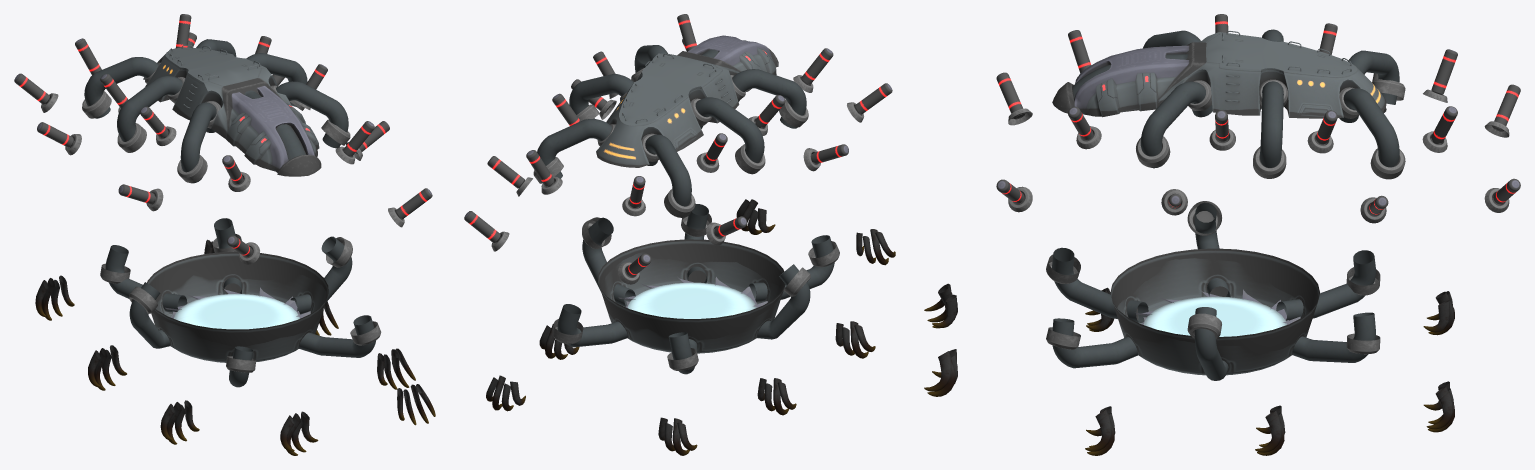
The model's file is Pfb_Water_bear.fbx.
3 renders of one model, left to right at view 1: azimuth 30°, elevation 25°; view 2: azimuth 150°, elevation 25°; view 3: azimuth 270°, elevation 25°, orthographic. The views are drawn at different scales.
Visible parts, largest first — view 1: MAT_Soda_Waterbear 1; view 2: MAT_Soda_Waterbear 1; view 3: MAT_Soda_Waterbear 1.
Boxes of the visible parts, x1,y1,x2,y2 form: MAT_Soda_Waterbear 1: (14,14,435,455); MAT_Soda_Waterbear 1: (464,14,895,455); MAT_Soda_Waterbear 1: (924,14,1520,455).
Size of the model in its own units: 7.4 by 8.01 by 12.48.
Materials: 1 (1 with a texture image).
